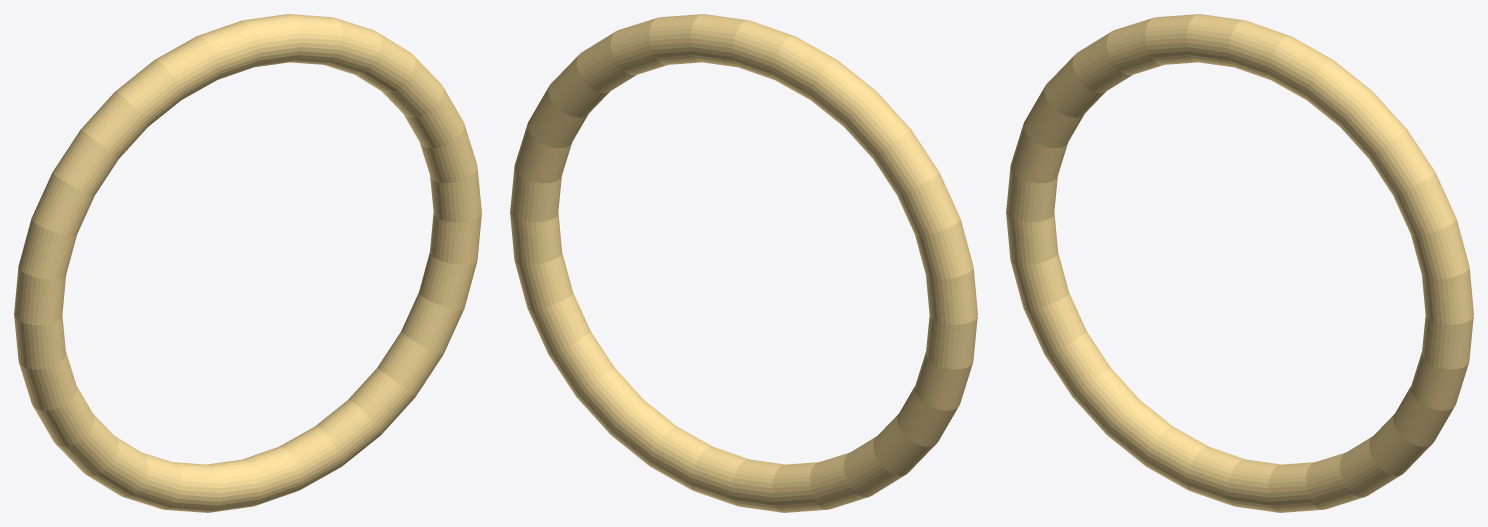
File: hoop_gold_small.glb
3 views of the same model, side by side, from view 1: azimuth 30°, elevation 25°; view 2: azimuth 150°, elevation 25°; view 3: azimuth 330°, elevation 25° (orthographic).
Parts seen in each view (by area): view 1: world; view 2: world; view 3: world.
Boxes of the visible parts, x1,y1,x2,y2 form: world: [14, 14, 481, 512]; world: [510, 14, 977, 512]; world: [1006, 14, 1473, 512].
Bounding box in the file's own units: 0.0264 × 0.0264 × 0.0024.
